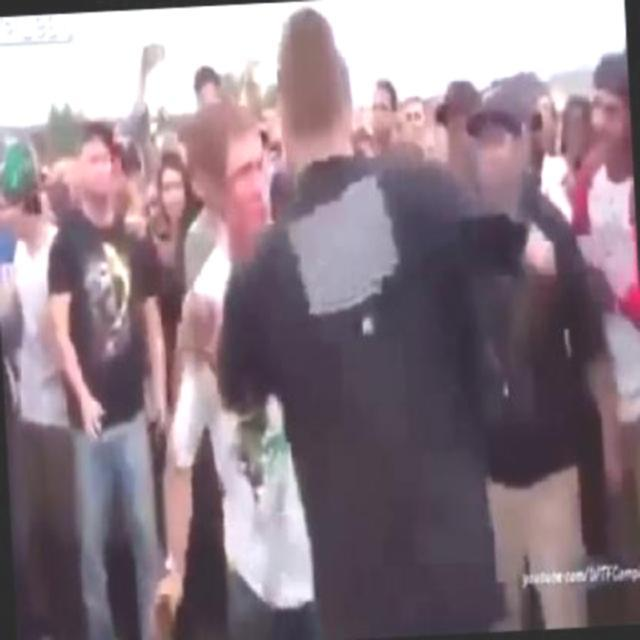fight: (142, 0, 473, 538)
